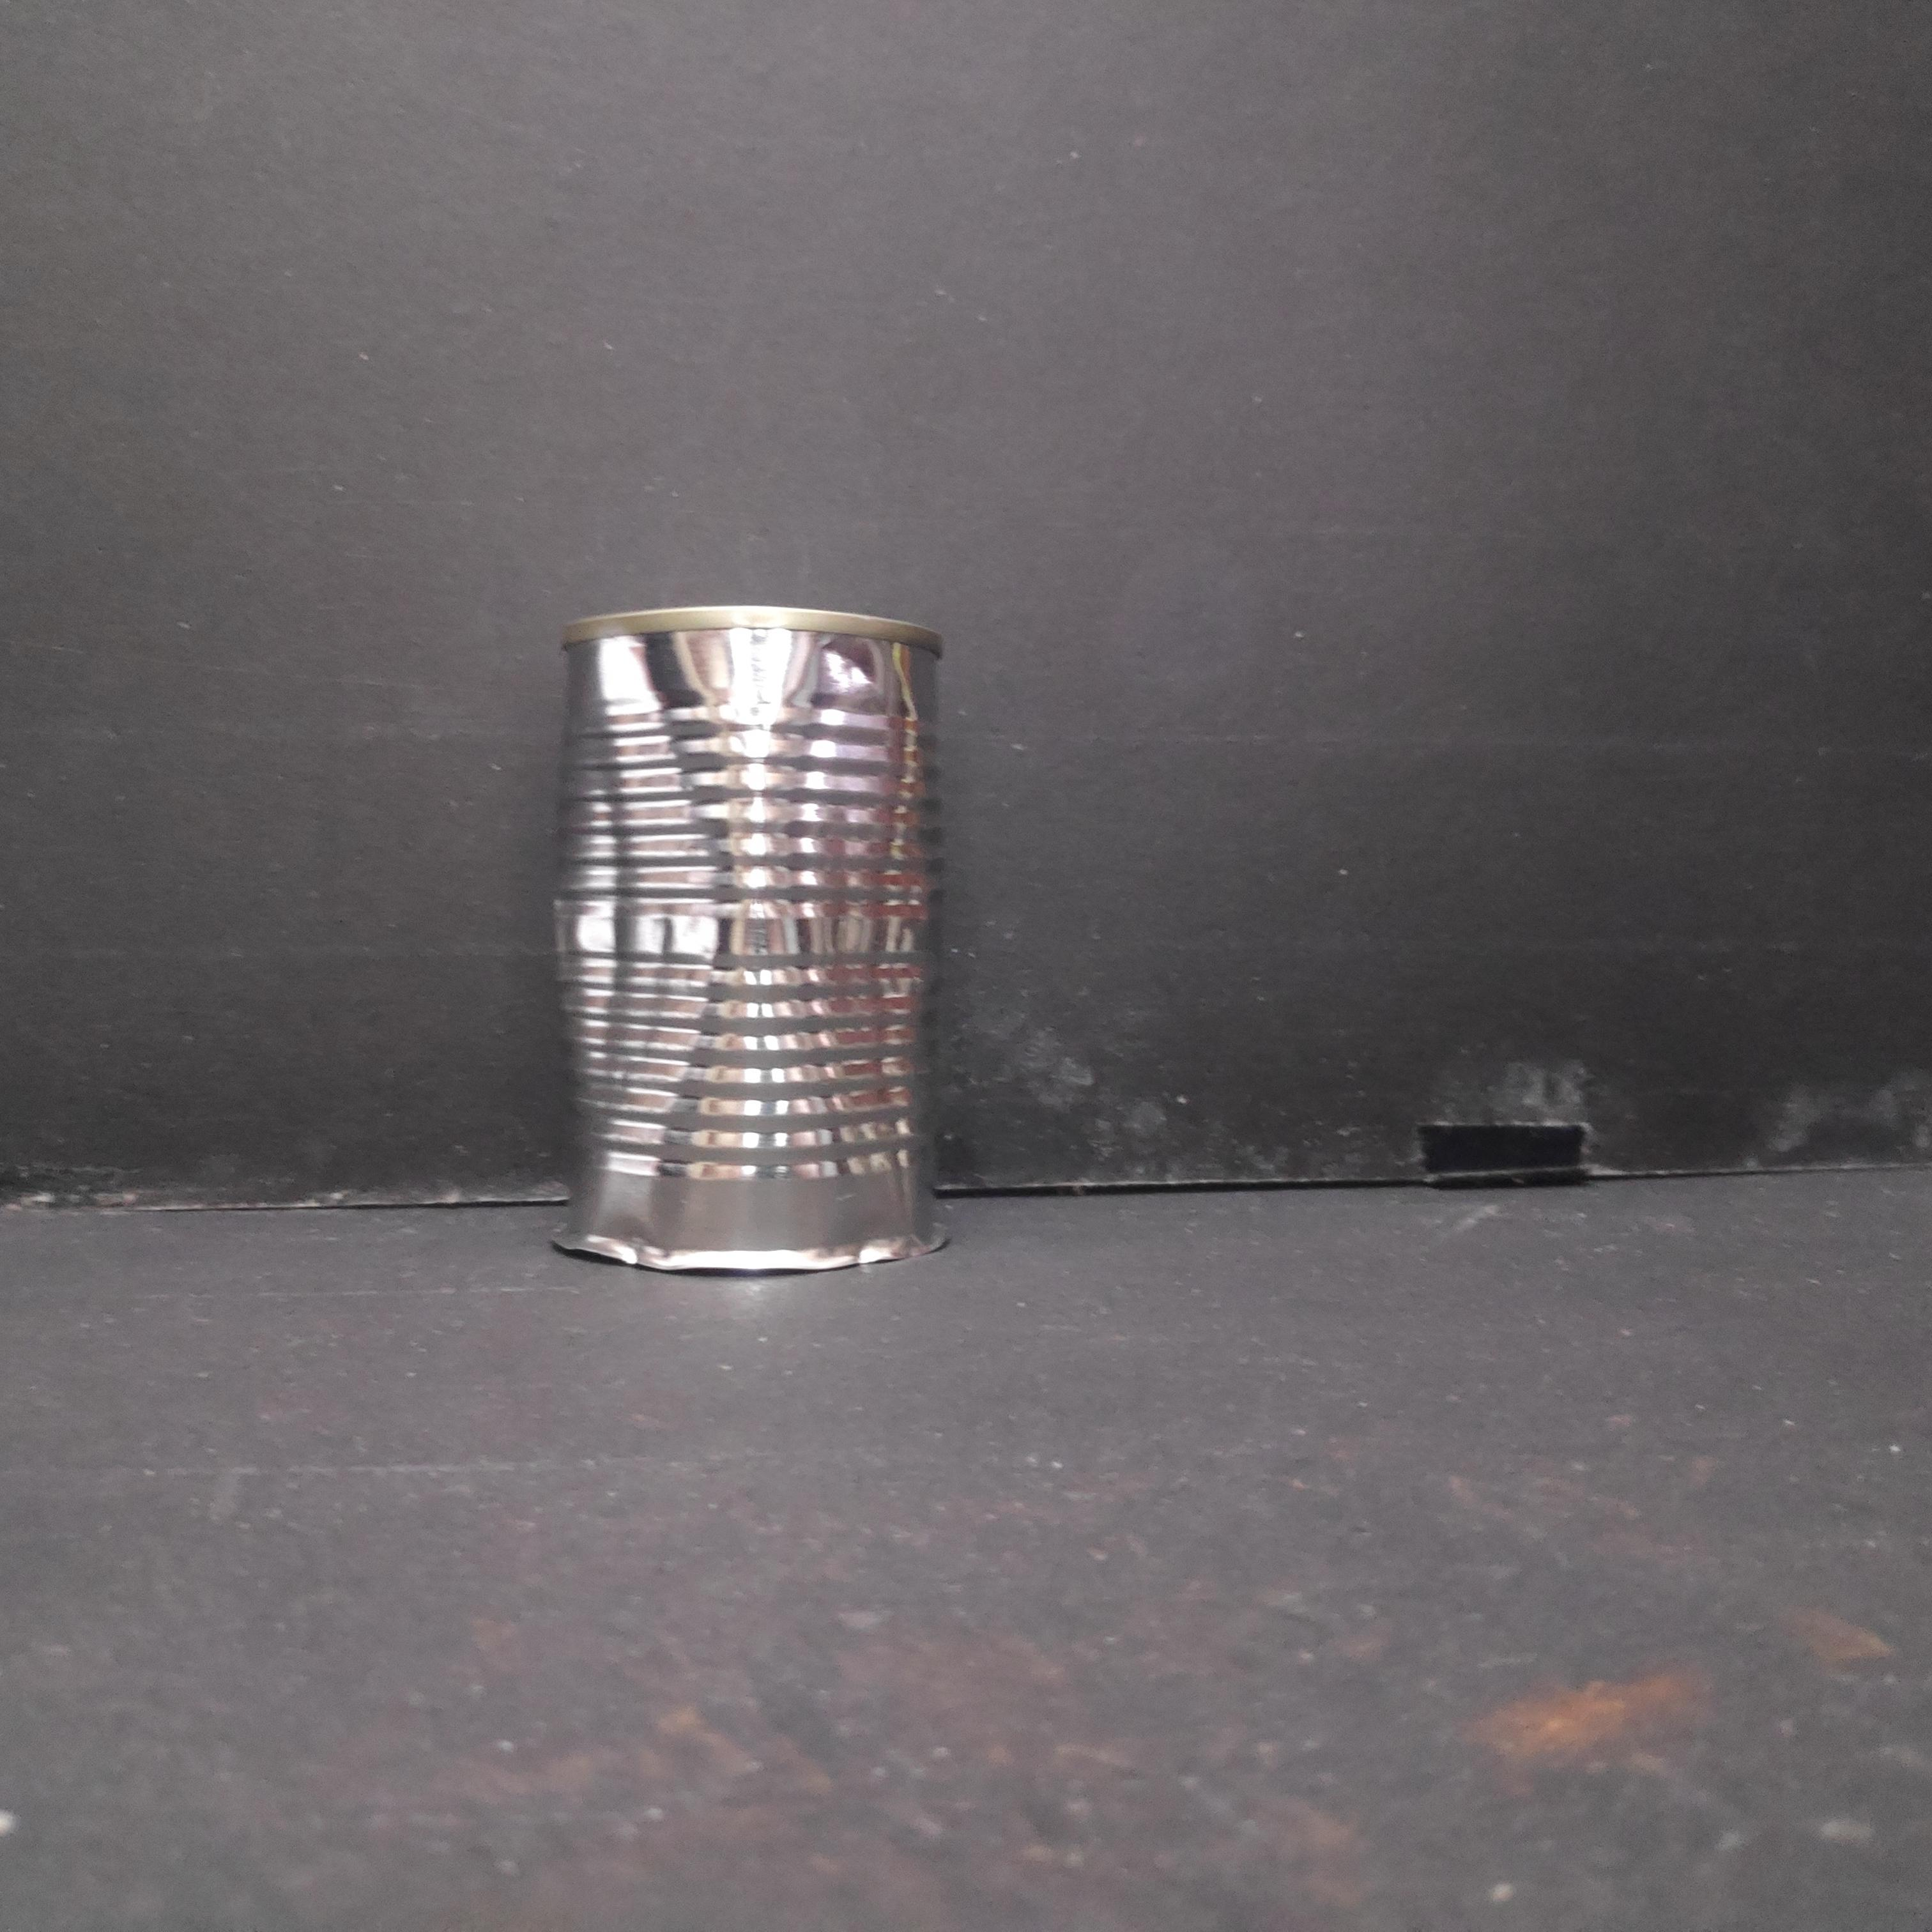Minor Defect: (538, 598, 964, 1281)
